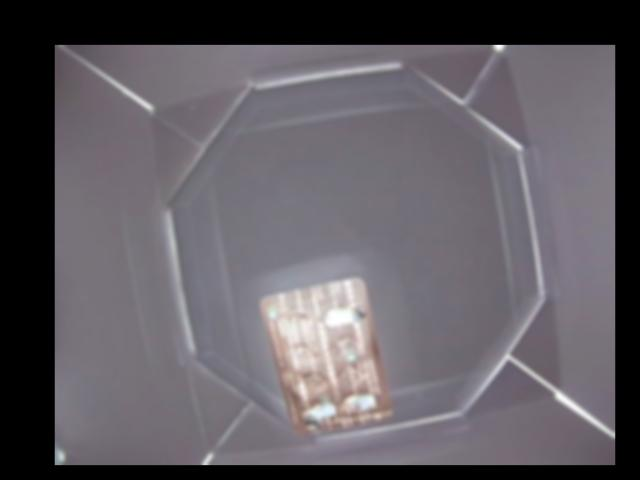Medicine: (257, 276, 392, 437)
